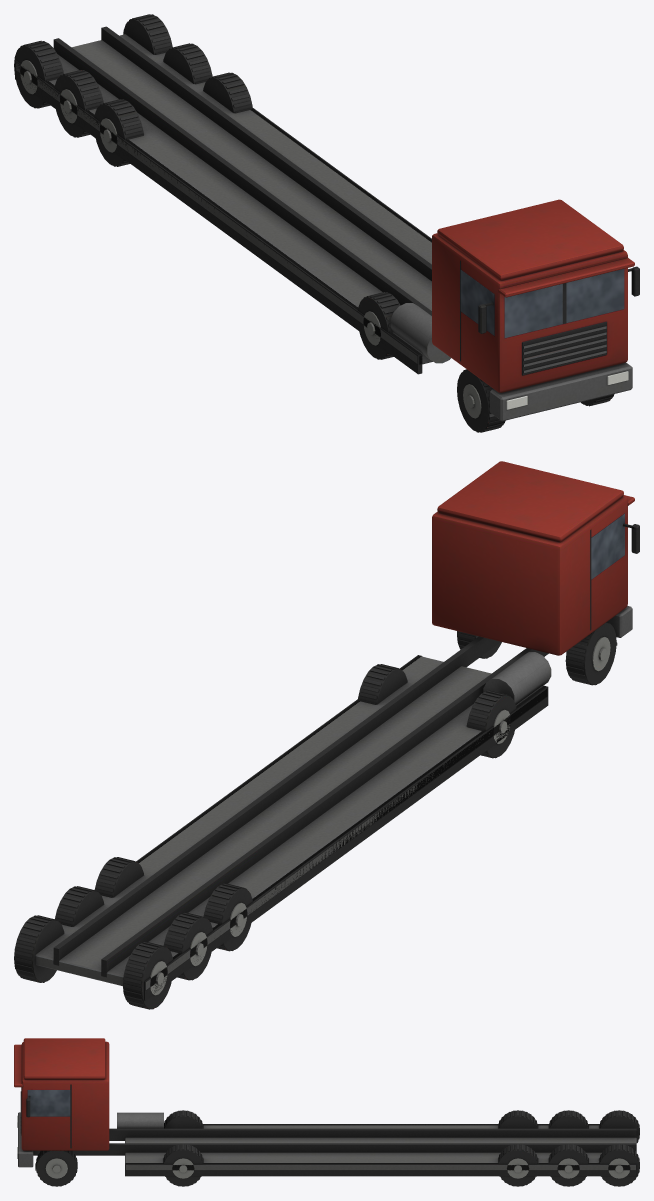
The model's file is truck_flat_red.glb.
The picture shows the model from 3 angles, top to bottom: view 1: azimuth 30°, elevation 25°; view 2: azimuth 150°, elevation 25°; view 3: azimuth 270°, elevation 25°; orthographic projection. The views are drawn at different scales.
Visible parts, largest first — view 1: truck_flat_red; view 2: truck_flat_red; view 3: truck_flat_red.
Part boxes in pixels (x1,y1,x2,y2): truck_flat_red: (14,14,639,432); truck_flat_red: (14,461,639,1009); truck_flat_red: (14,1038,639,1186).
Bounding box in the file's own units: 3.01 × 3.13 × 16.08.
Materials: 1 (1 with a texture image).
